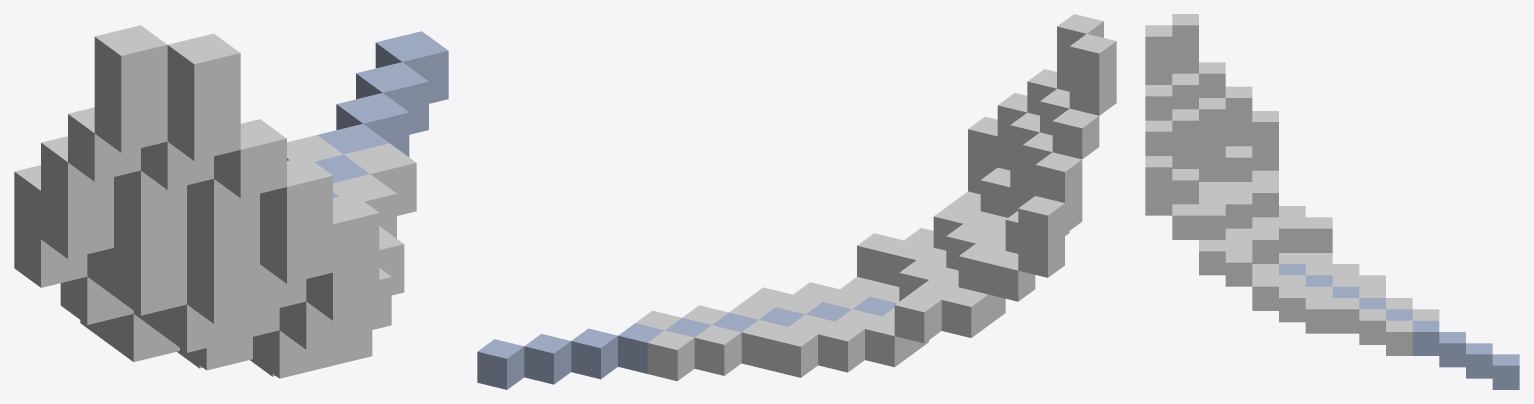
File: feather.gltf
The picture shows the model from 3 angles, left to right: view 1: azimuth 30°, elevation 25°; view 2: azimuth 150°, elevation 25°; view 3: azimuth 270°, elevation 25°; orthographic projection. The views are drawn at different scales.
Visible parts, largest first — view 1: Layer.1; view 2: Layer.1; view 3: Layer.1.
Part boxes in pixels (x1,y1,x2,y2): Layer.1: (14,25,448,378); Layer.1: (477,14,1116,389); Layer.1: (1145,14,1519,389).
Bounding box in the file's own units: 14 × 9 × 14.
